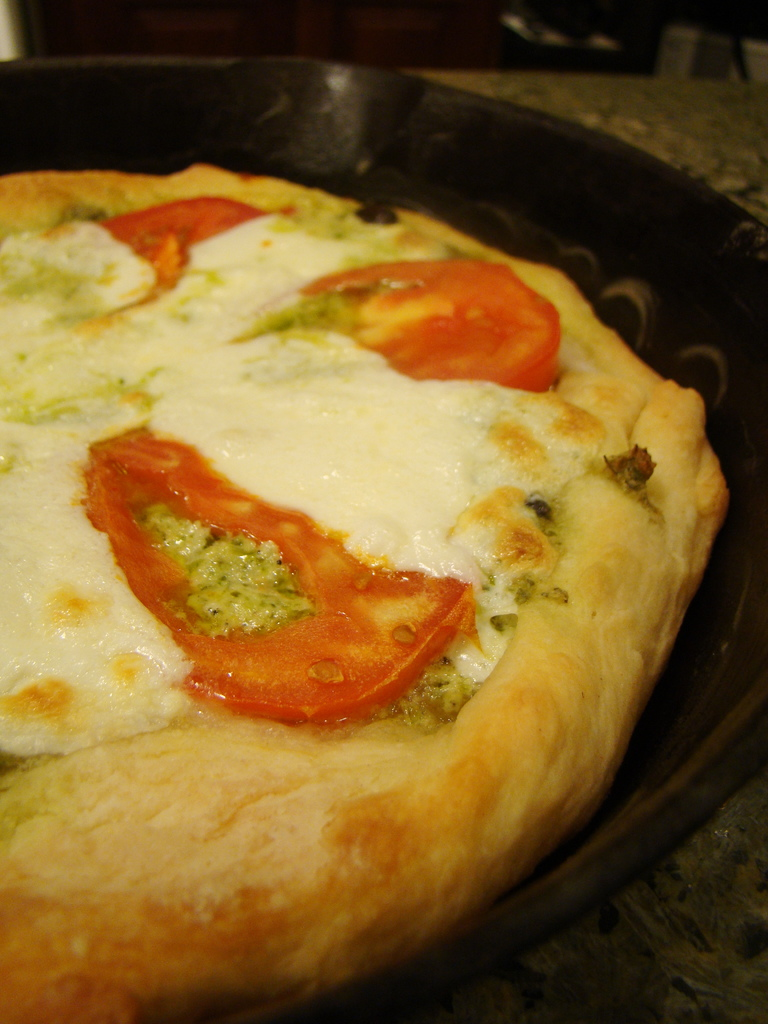Pizza: (13, 172, 735, 1009)
